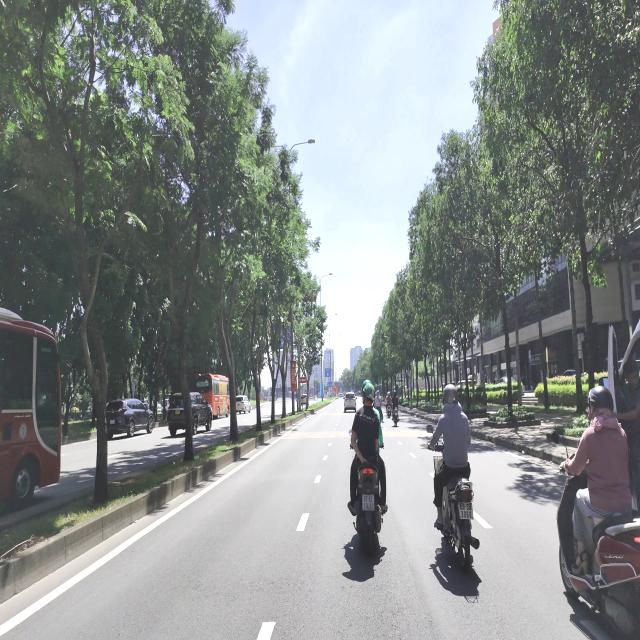car: (106, 399, 154, 439), (190, 393, 212, 434), (344, 392, 356, 412), (236, 396, 250, 413), (300, 394, 308, 408)
motorcycle: (557, 472, 639, 637), (442, 476, 479, 571), (354, 463, 382, 555), (393, 407, 398, 426), (387, 405, 391, 418)
